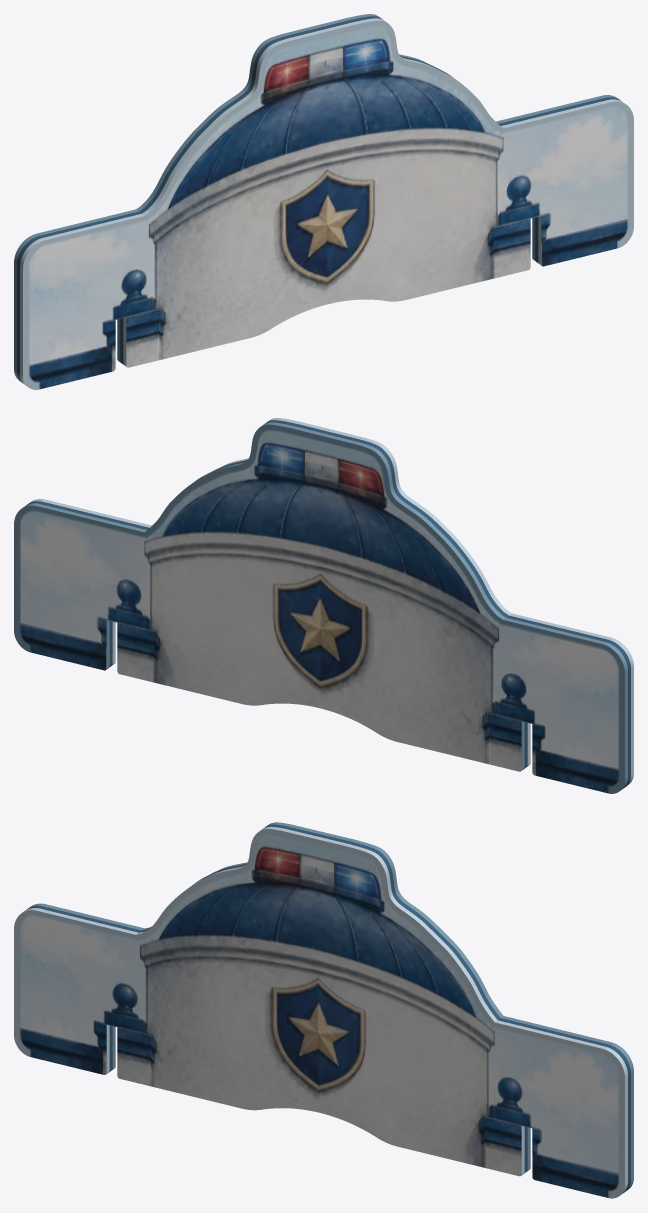
File: door-panel-top-subpanel.glb
3 views of the same model, one above another, from view 1: azimuth 30°, elevation 25°; view 2: azimuth 150°, elevation 25°; view 3: azimuth 330°, elevation 25° (orthographic).
Parts seen in each view (by area): view 1: door-panel-top-subpanel; view 2: door-panel-top-subpanel; view 3: door-panel-top-subpanel.
Boxes of the visible parts, x1,y1,x2,y2 form: door-panel-top-subpanel: (14,14,633,389); door-panel-top-subpanel: (14,418,633,793); door-panel-top-subpanel: (14,822,633,1198).
Size of the model in its own units: 1066 by 480 by 27.
Materials: 5 (2 with a texture image).
